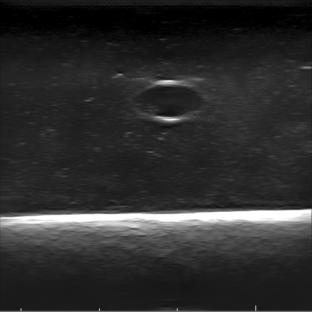vessel: (132, 78, 209, 123)
